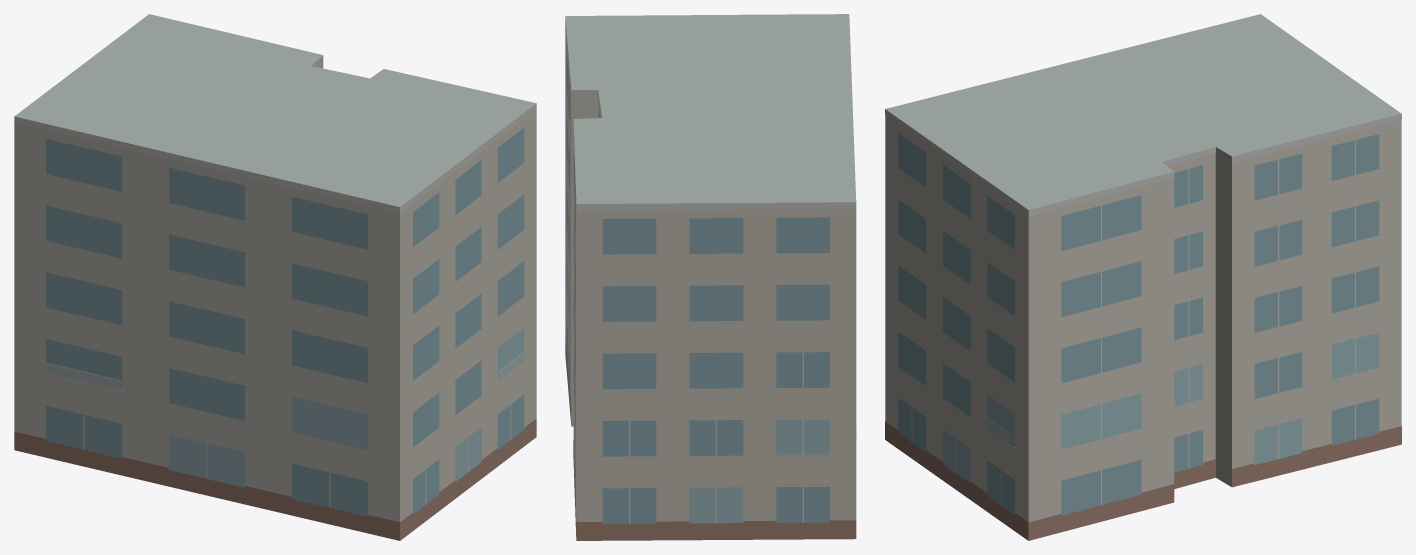
Rendered from survey-upis-32676597.glb.
3 renders of one model, left to right at view 1: azimuth 30°, elevation 25°; view 2: azimuth 150°, elevation 25°; view 3: azimuth 270°, elevation 25°, orthographic.
Visible parts, largest first — view 1: survey-upis-32676597.tmp; view 2: survey-upis-32676597.tmp; view 3: survey-upis-32676597.tmp.
Boxes of the visible parts, left/top/right/bottom form: survey-upis-32676597.tmp: left=14, top=14, right=536, bottom=540; survey-upis-32676597.tmp: left=565, top=14, right=856, bottom=540; survey-upis-32676597.tmp: left=885, top=14, right=1401, bottom=540.
Size of the model in its own units: 17.17 by 13.5 by 19.12.
